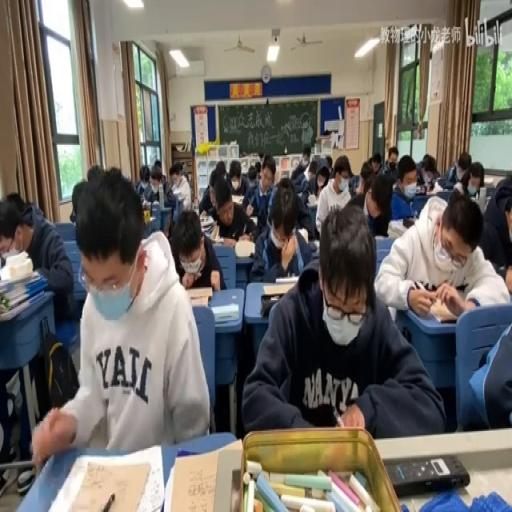calculator: (43, 442, 162, 509), (163, 445, 232, 512), (417, 286, 459, 323), (210, 302, 238, 322), (233, 238, 254, 258), (262, 283, 294, 296), (388, 218, 406, 238), (186, 284, 211, 298), (199, 214, 215, 234), (147, 200, 160, 224), (0, 248, 21, 260), (188, 297, 210, 307), (418, 184, 438, 194), (274, 274, 297, 282), (297, 225, 309, 240), (230, 195, 244, 205), (482, 195, 492, 209), (307, 194, 317, 206), (142, 199, 150, 213), (247, 214, 257, 224), (211, 235, 223, 243), (483, 175, 495, 183), (374, 235, 387, 240)
paper: (242, 204, 440, 436), (0, 193, 73, 475), (464, 303, 510, 427), (204, 175, 256, 252), (480, 175, 512, 279), (316, 152, 354, 238), (360, 170, 394, 238), (390, 154, 420, 223), (167, 161, 192, 213), (440, 149, 470, 189), (302, 155, 324, 195), (68, 179, 86, 225), (416, 152, 440, 186), (134, 165, 152, 198), (198, 179, 214, 215), (382, 146, 398, 178), (4, 192, 26, 213), (86, 164, 104, 184), (470, 164, 483, 188), (348, 174, 362, 194), (164, 212, 174, 239), (371, 152, 382, 174), (214, 159, 226, 178), (158, 166, 167, 190), (323, 154, 331, 172), (302, 145, 310, 162), (230, 168, 238, 183), (152, 158, 162, 169), (254, 161, 261, 176), (179, 168, 186, 179)
person: (386, 452, 470, 495), (260, 294, 287, 316), (230, 468, 242, 510), (402, 215, 416, 226)
